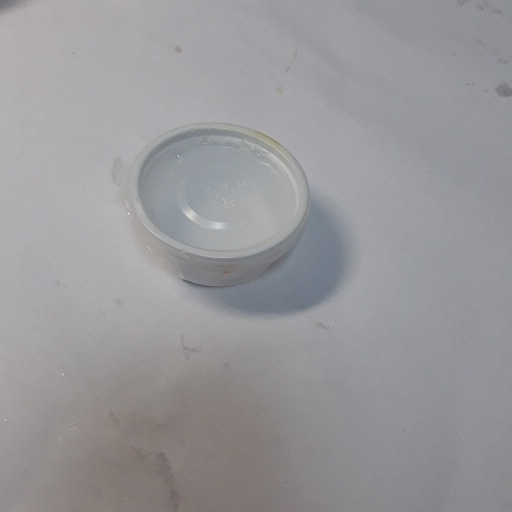Plastic_5: (108, 119, 314, 295)
